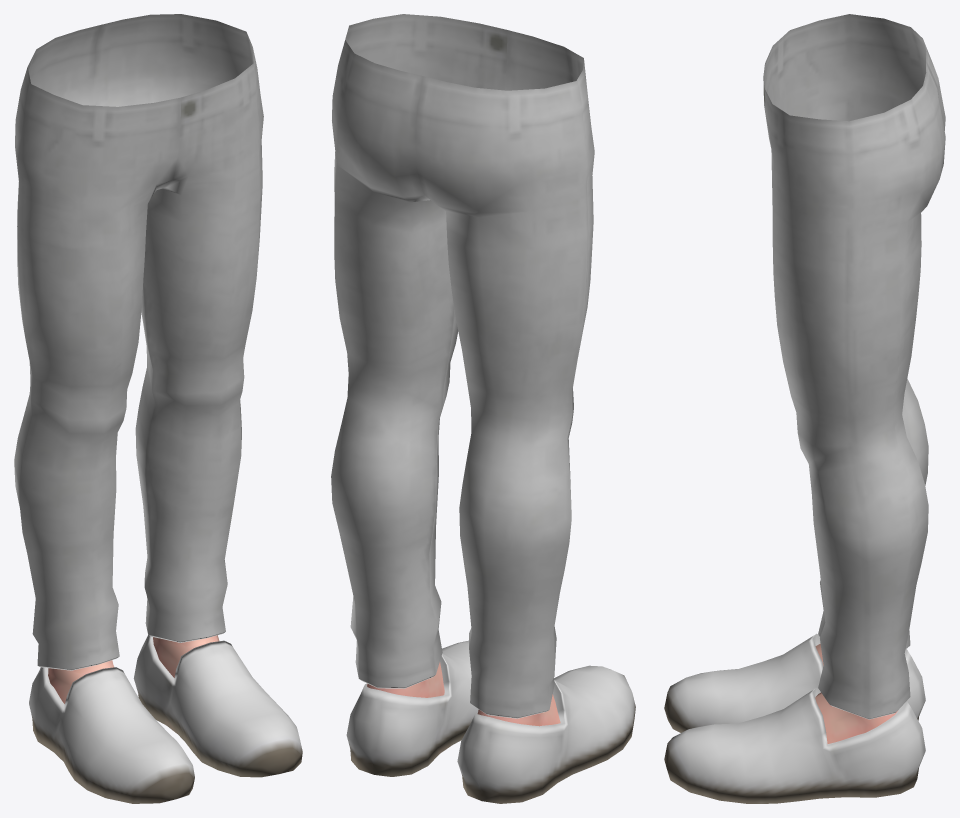
File: tr0780_00_lwb00.gltf
The picture shows the model from 3 angles, left to right: view 1: azimuth 30°, elevation 25°; view 2: azimuth 150°, elevation 25°; view 3: azimuth 270°, elevation 25°; orthographic projection. The views are drawn at different scales.
Parts seen in each view (by area): view 1: lwb00_lowerbody_mesh_shape:lowerbody00, lwb00_shoes_mesh_shape:lowerbody00, lwb00_lowerskin_mesh_shape:lowerbody00_skin; view 2: lwb00_lowerbody_mesh_shape:lowerbody00, lwb00_shoes_mesh_shape:lowerbody00, lwb00_lowerskin_mesh_shape:lowerbody00_skin; view 3: lwb00_lowerbody_mesh_shape:lowerbody00, lwb00_shoes_mesh_shape:lowerbody00, lwb00_lowerskin_mesh_shape:lowerbody00_skin.
Part boxes in pixels (x1,y1,x2,y2): lwb00_lowerbody_mesh_shape:lowerbody00: (14,14,263,670); lwb00_shoes_mesh_shape:lowerbody00: (29,635,302,803); lwb00_lowerskin_mesh_shape:lowerbody00_skin: (48,635,219,703); lwb00_lowerbody_mesh_shape:lowerbody00: (331,14,594,718); lwb00_shoes_mesh_shape:lowerbody00: (346,640,635,803); lwb00_lowerskin_mesh_shape:lowerbody00_skin: (367,662,560,726); lwb00_lowerbody_mesh_shape:lowerbody00: (763,14,945,719); lwb00_shoes_mesh_shape:lowerbody00: (664,633,925,803); lwb00_lowerskin_mesh_shape:lowerbody00_skin: (815,643,898,743).
Size of what is drawn, in the model's own units: 0.3437 by 0.931 by 0.3431.
Materials: 2 (2 with a texture image).
